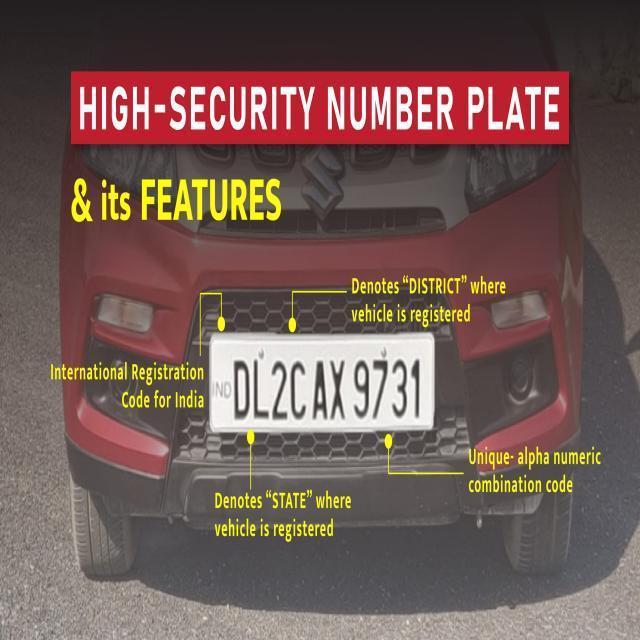License_Plate: (208, 332, 438, 434)
